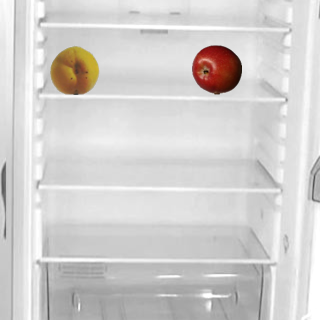Apple Braeburn: (191, 44, 241, 94)
Peach 2: (49, 44, 99, 94)
